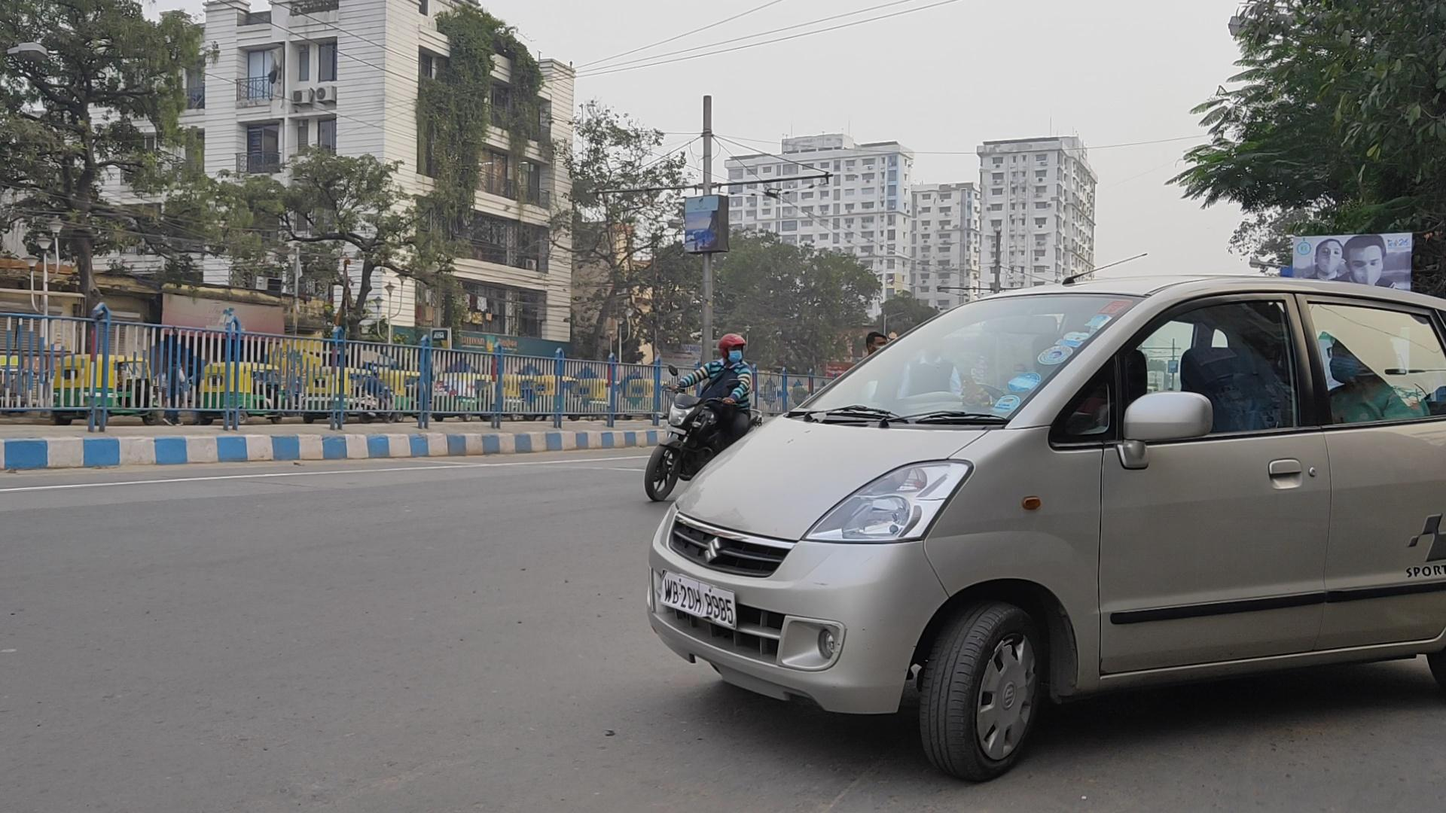bike: (643, 333, 767, 504)
car: (646, 273, 1446, 784)
